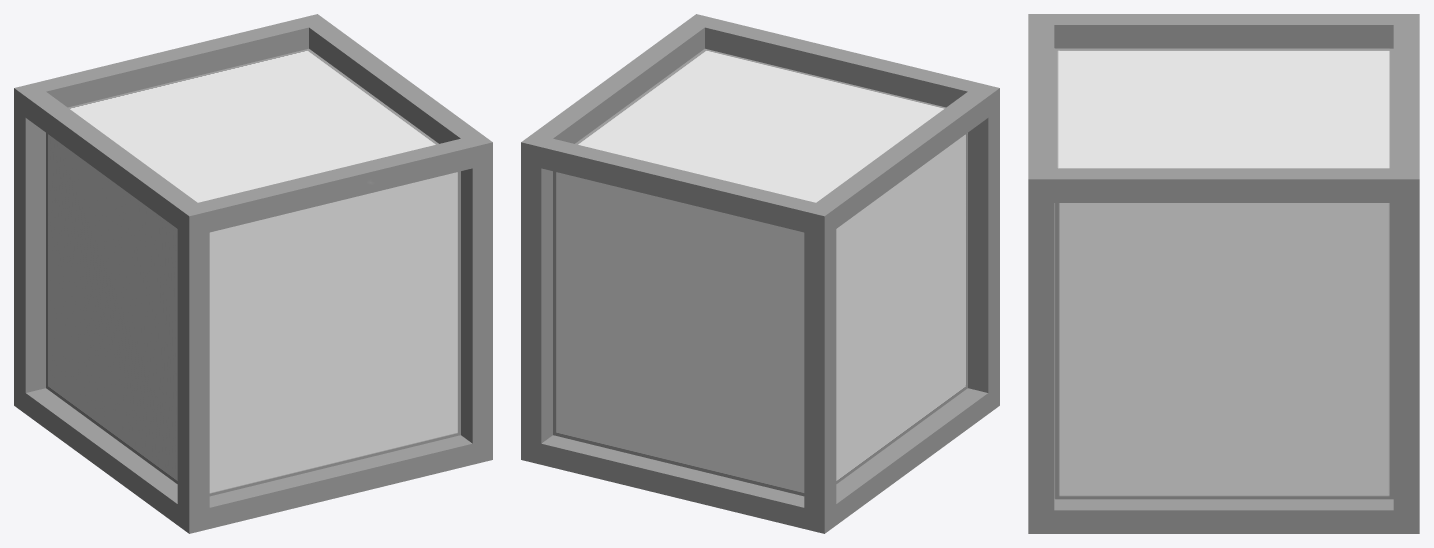
Rendered from ProgramBlock.fbx.
3 views of the same model, side by side, from view 1: azimuth 30°, elevation 25°; view 2: azimuth 150°, elevation 25°; view 3: azimuth 270°, elevation 25° (orthographic). The views are drawn at different scales.
Visible parts, largest first — view 1: Cube; view 2: Cube; view 3: Cube.
Part boxes in pixels (x1,y1,x2,y2): Cube: (14, 14, 492, 533); Cube: (521, 14, 999, 533); Cube: (1028, 14, 1419, 533).
Size of the model in its own units: 30 by 30 by 30.
1 material, 1 textured.
